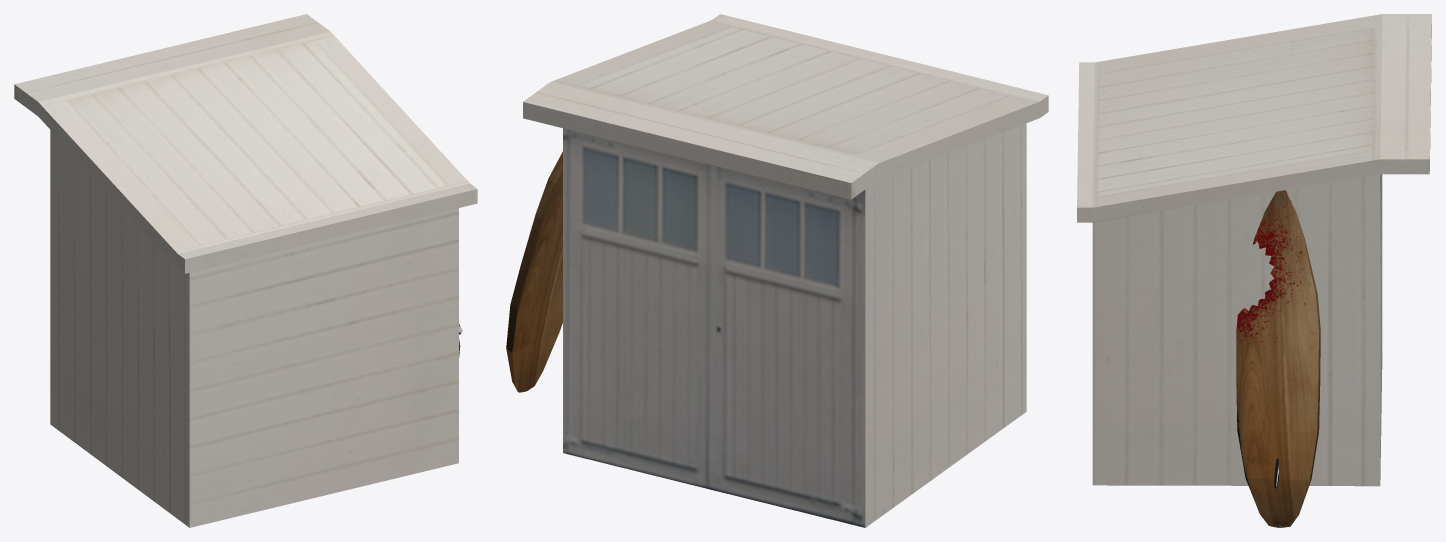
File: ETC0610053.fbx
3 views of the same model, side by side, from view 1: azimuth 30°, elevation 25°; view 2: azimuth 150°, elevation 25°; view 3: azimuth 270°, elevation 25° (orthographic). The views are drawn at different scales.
Parts seen in each view (by area): view 1: smETC0610053; view 2: smETC0610053; view 3: smETC0610053.
Boxes of the visible parts, bbox=[...] form: smETC0610053: bbox=[14, 14, 477, 527]; smETC0610053: bbox=[506, 14, 1048, 527]; smETC0610053: bbox=[1077, 14, 1431, 527].
Bounding box in the file's own units: 400 × 334 × 322.
Materials: 1 (1 with a texture image).
